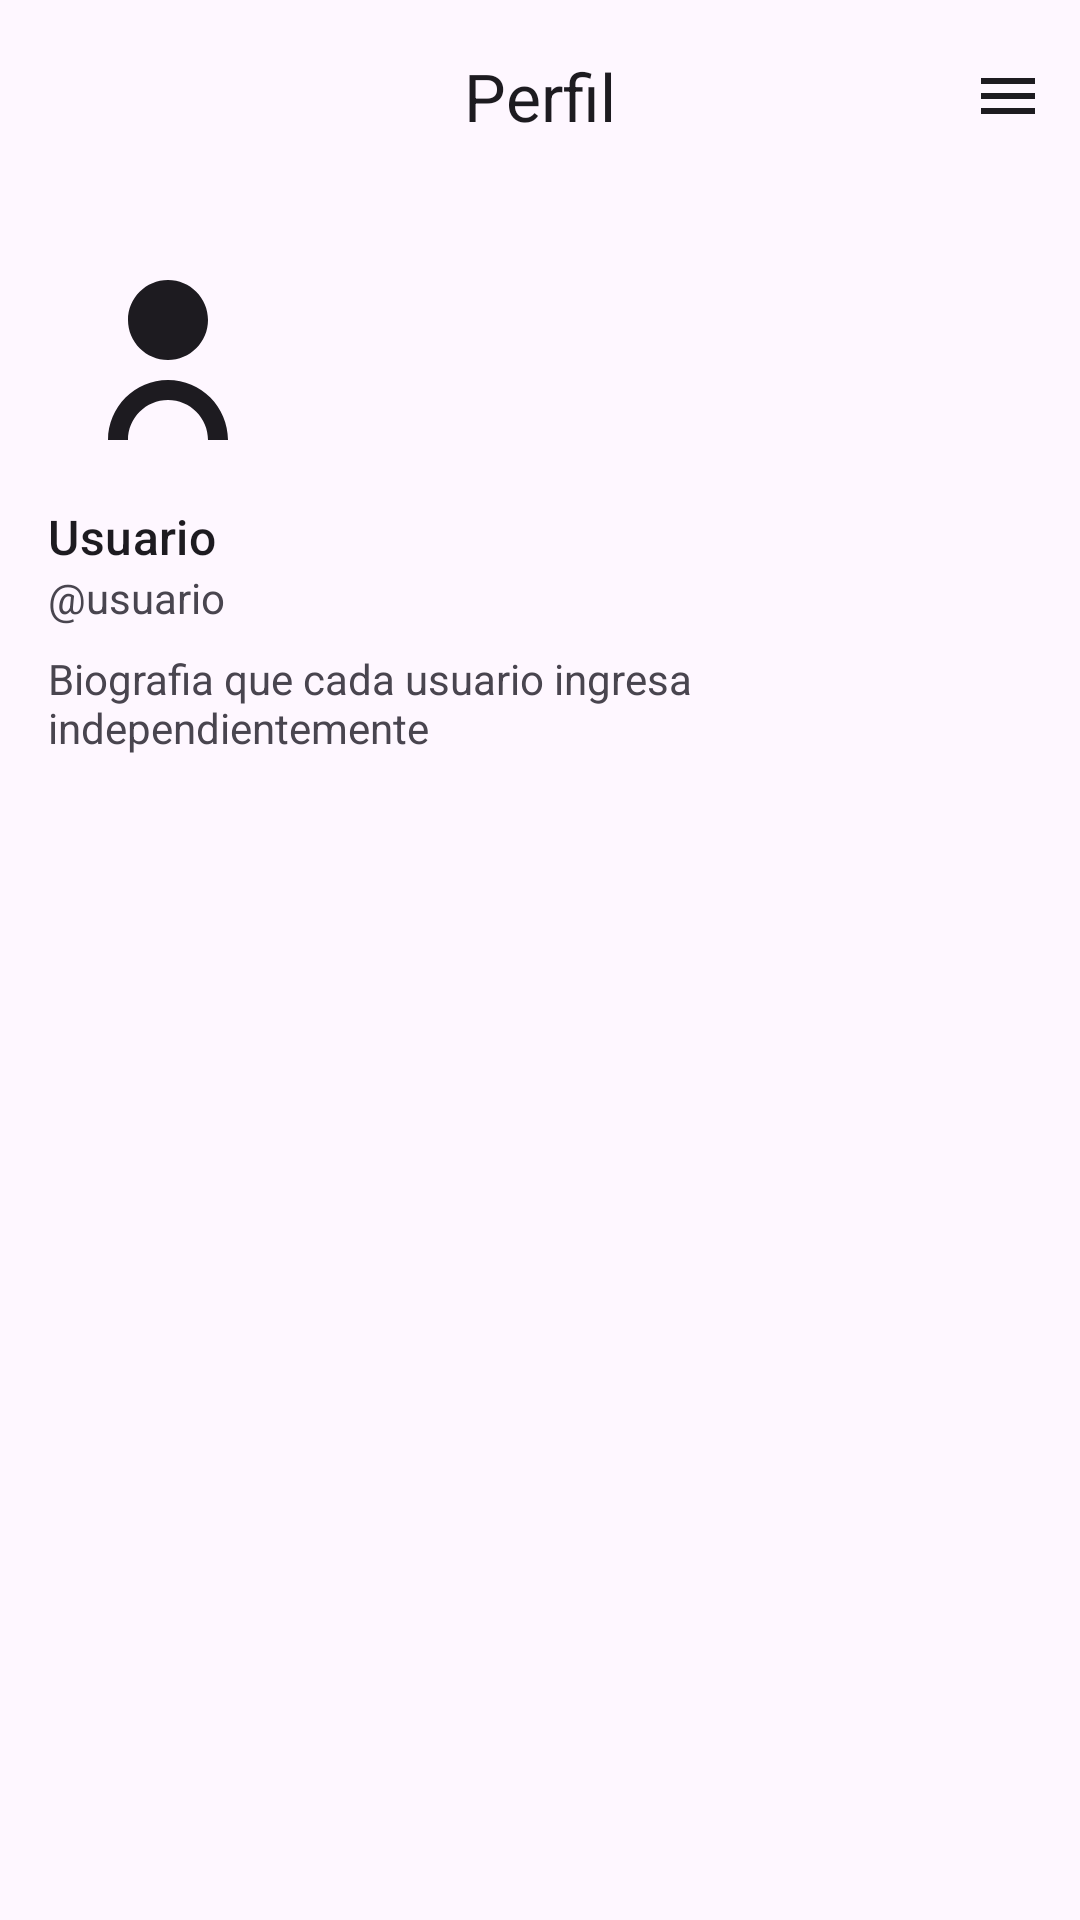

Locate icon controls on the screen. Image size 1080 x 1920, boxes as (x1, y1, x2, y2).
Avatar: (108, 280, 228, 440)
